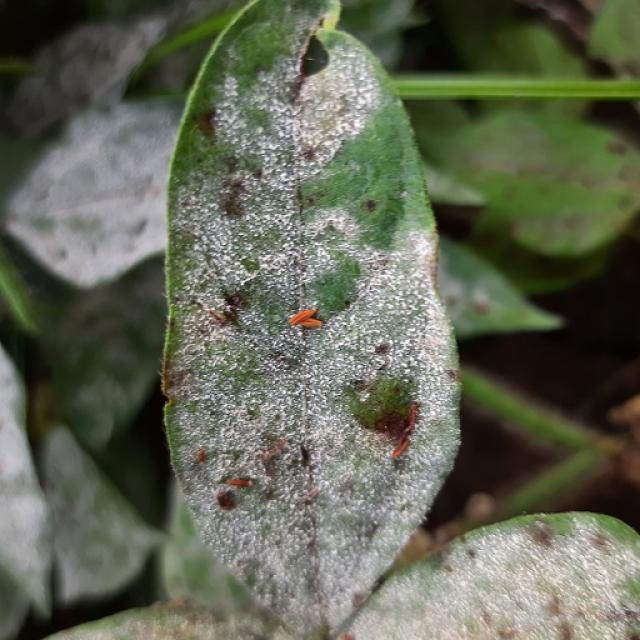Blackgram: (158, 0, 462, 639)
Powdery_Mildew: (300, 251, 437, 467), (195, 288, 341, 483), (41, 424, 164, 615), (205, 48, 337, 221), (234, 515, 399, 635), (463, 525, 633, 631), (278, 44, 374, 176), (22, 133, 137, 233), (221, 56, 296, 188), (435, 514, 620, 557), (411, 239, 456, 414), (200, 311, 279, 385), (0, 328, 37, 486), (290, 104, 313, 336), (302, 246, 365, 319), (336, 253, 392, 331), (346, 177, 405, 244), (268, 1, 338, 51), (406, 225, 445, 306), (192, 611, 283, 637), (160, 319, 183, 393), (221, 174, 254, 220), (232, 262, 265, 290), (290, 61, 310, 105), (166, 368, 190, 393), (197, 112, 217, 138), (240, 254, 261, 276), (223, 196, 244, 218), (159, 365, 173, 398), (477, 604, 496, 628), (221, 154, 241, 174), (216, 491, 236, 510), (499, 626, 525, 640), (245, 404, 261, 420), (333, 101, 347, 116), (254, 64, 267, 79), (244, 634, 267, 640), (444, 563, 454, 573)
